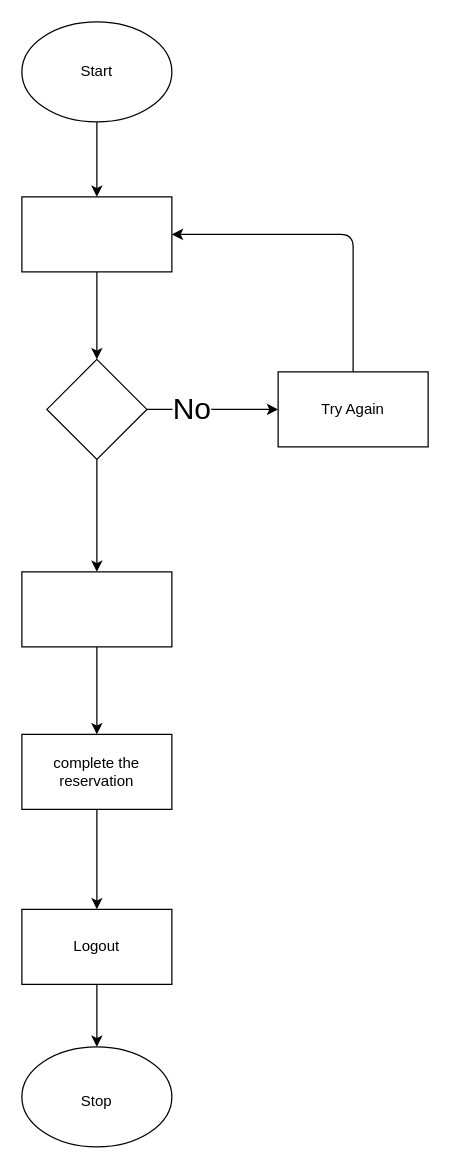
The diagram is 450 pixels wide and 1169 high, and some of its shapes have lost their labels. Here are the shapes that lost their labels. From the top down, the box of each, then its label:
(21, 196, 172, 272): Login
(46, 358, 147, 459): Success
(21, 571, 172, 647): Conform reservation done by user
